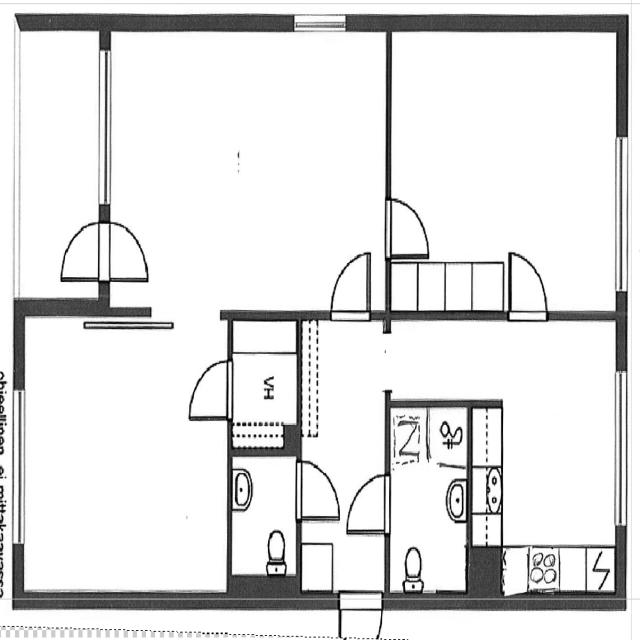door: (48, 222, 152, 285), (380, 193, 433, 264), (502, 244, 549, 321), (328, 243, 373, 322), (182, 364, 237, 421), (294, 460, 342, 522), (347, 472, 387, 538), (331, 593, 384, 640)
window: (605, 130, 639, 297), (90, 39, 122, 210), (613, 363, 635, 543), (6, 384, 28, 553), (281, 7, 351, 35)
zone: (104, 25, 388, 315), (386, 22, 622, 314), (21, 311, 231, 599), (468, 318, 622, 608), (387, 398, 470, 605), (228, 447, 300, 588), (228, 310, 295, 452)
